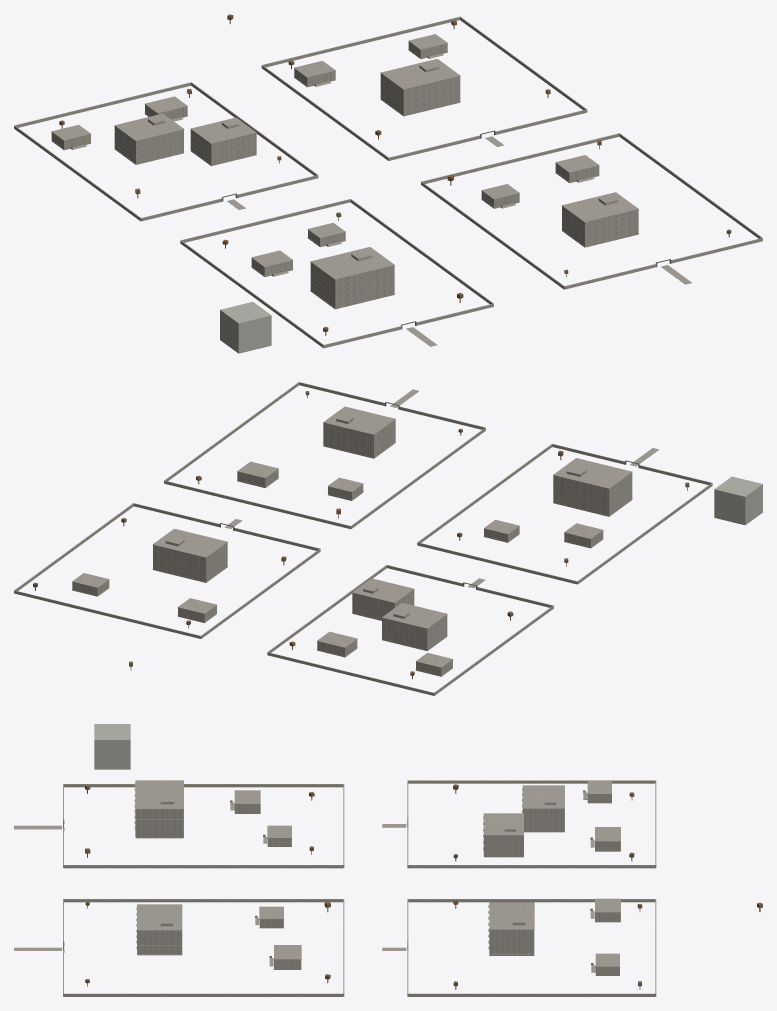
Rendered from cell_5_-4_lod1.gltf.
3 views of the same model, one above another, from view 1: azimuth 30°, elevation 25°; view 2: azimuth 150°, elevation 25°; view 3: azimuth 270°, elevation 25° (orthographic). The views are drawn at different scales.
Visible parts, largest first — view 1: LEKKI_APARTMENT_COURT_A, MASS_LEKKI_005, LEKKI_TREE_INSTANCE_00; view 2: LEKKI_APARTMENT_COURT_A, MASS_LEKKI_005; view 3: LEKKI_APARTMENT_COURT_A, MASS_LEKKI_005, LEKKI_TREE_INSTANCE_00.
Boxes of the visible parts, x1,y1,x2,y2 form: LEKKI_APARTMENT_COURT_A: [14, 16, 762, 348]; MASS_LEKKI_005: [220, 302, 271, 353]; LEKKI_TREE_INSTANCE_00: [59, 14, 731, 335]; LEKKI_APARTMENT_COURT_A: [14, 382, 712, 695]; MASS_LEKKI_005: [714, 476, 762, 525]; LEKKI_APARTMENT_COURT_A: [14, 780, 656, 996]; MASS_LEKKI_005: [94, 724, 130, 769]; LEKKI_TREE_INSTANCE_00: [85, 784, 762, 989].
Bounding box in the file's own units: 359 × 22.02 × 468.
Materials: 4 (2 with a texture image).
